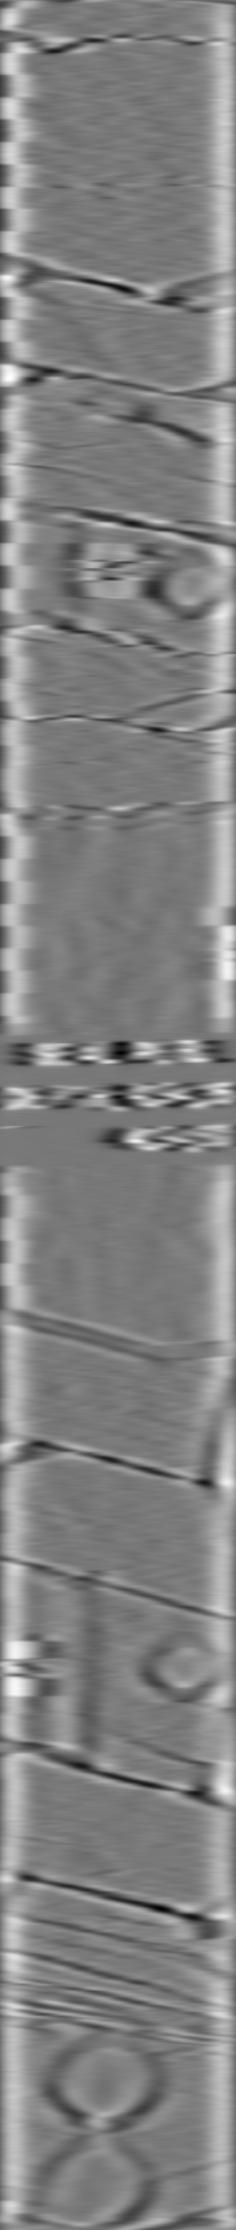hplug: (144, 539, 233, 623), (139, 1626, 226, 1711)
scal: (44, 2029, 168, 2138), (33, 2139, 156, 2227)
vplug: (23, 1562, 100, 1773), (7, 488, 84, 646)
